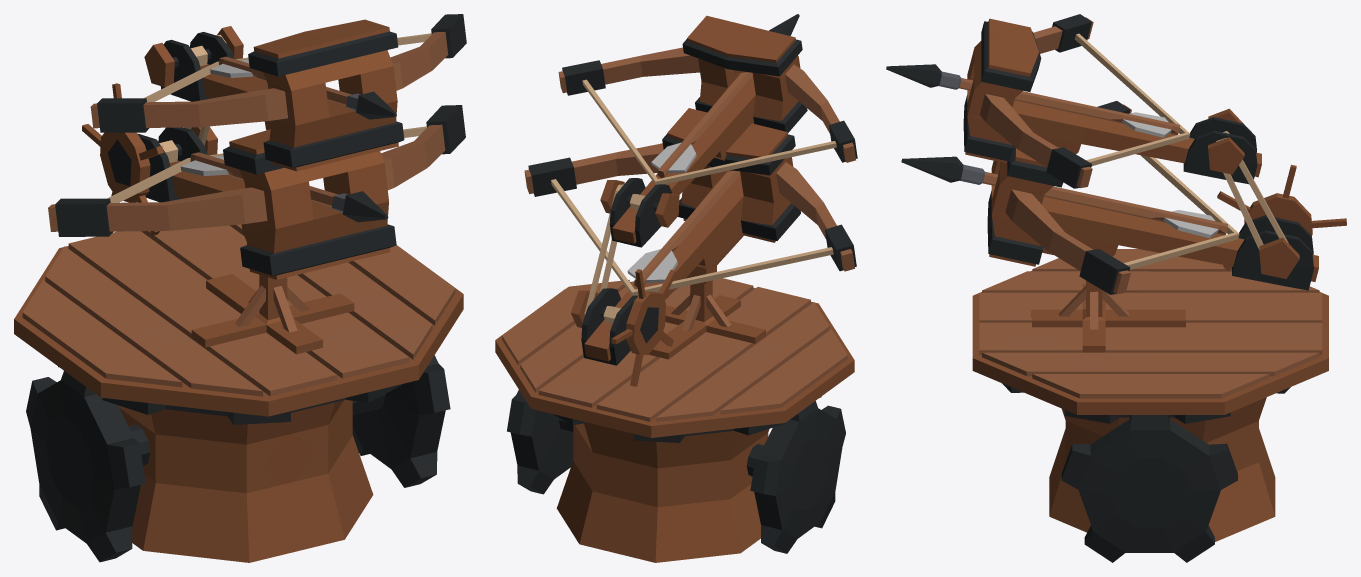
The model's file is xbow-2.glb.
3 renders of one model, left to right at view 1: azimuth 30°, elevation 25°; view 2: azimuth 150°, elevation 25°; view 3: azimuth 270°, elevation 25°, orthographic. The views are drawn at different scales.
Parts seen in each view (by area): view 1: Crossbow002; view 2: Crossbow002; view 3: Crossbow002.
Boxes of the visible parts, x1=… form: Crossbow002: x1=14, y1=14, x2=466, y2=562; Crossbow002: x1=495, y1=14, x2=857, y2=562; Crossbow002: x1=886, y1=14, x2=1346, y2=562.
Bounding box in the file's own units: 2.21 × 2.75 × 2.52.
1 material, 1 textured.
